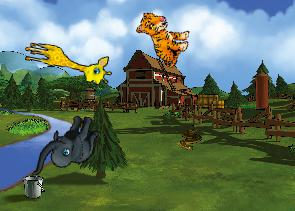elephant: (31, 106, 102, 187)
giraffe: (20, 40, 114, 87)
tiger: (128, 8, 195, 70)
